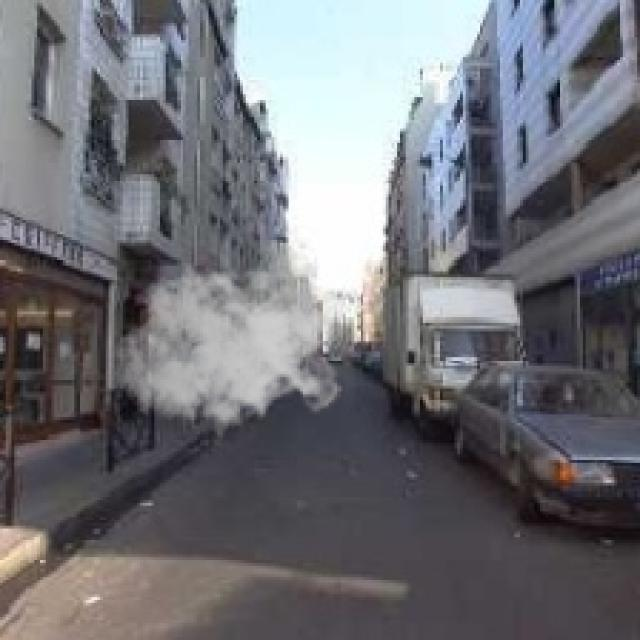smoke: (114, 240, 346, 449)
